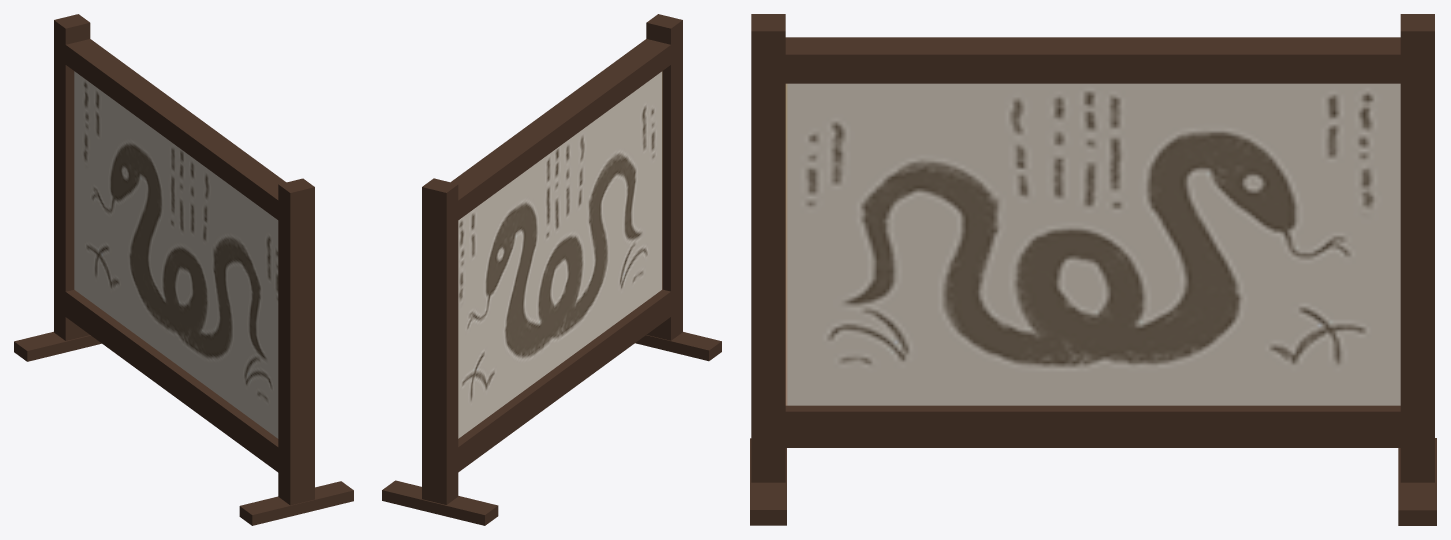
The model's file is snake.fbx.
The picture shows the model from 3 angles, left to right: view 1: azimuth 30°, elevation 25°; view 2: azimuth 150°, elevation 25°; view 3: azimuth 270°, elevation 25°; orthographic projection. The views are drawn at different scales.
Visible parts, largest first — view 1: snake; view 2: snake; view 3: snake.
Part boxes in pixels (x1=…): snake: x1=14, y1=14, x2=353, y2=525; snake: x1=382, y1=14, x2=721, y2=525; snake: x1=750, y1=14, x2=1436, y2=525.
Size of the model in its own units: 1 by 3 by 4.
